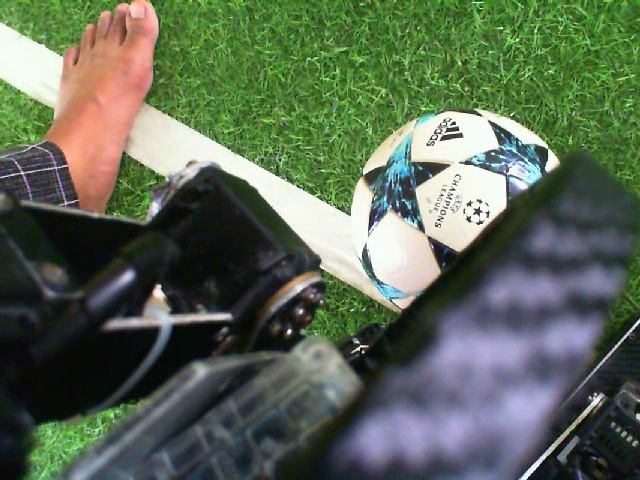ball: (349, 106, 563, 313)
